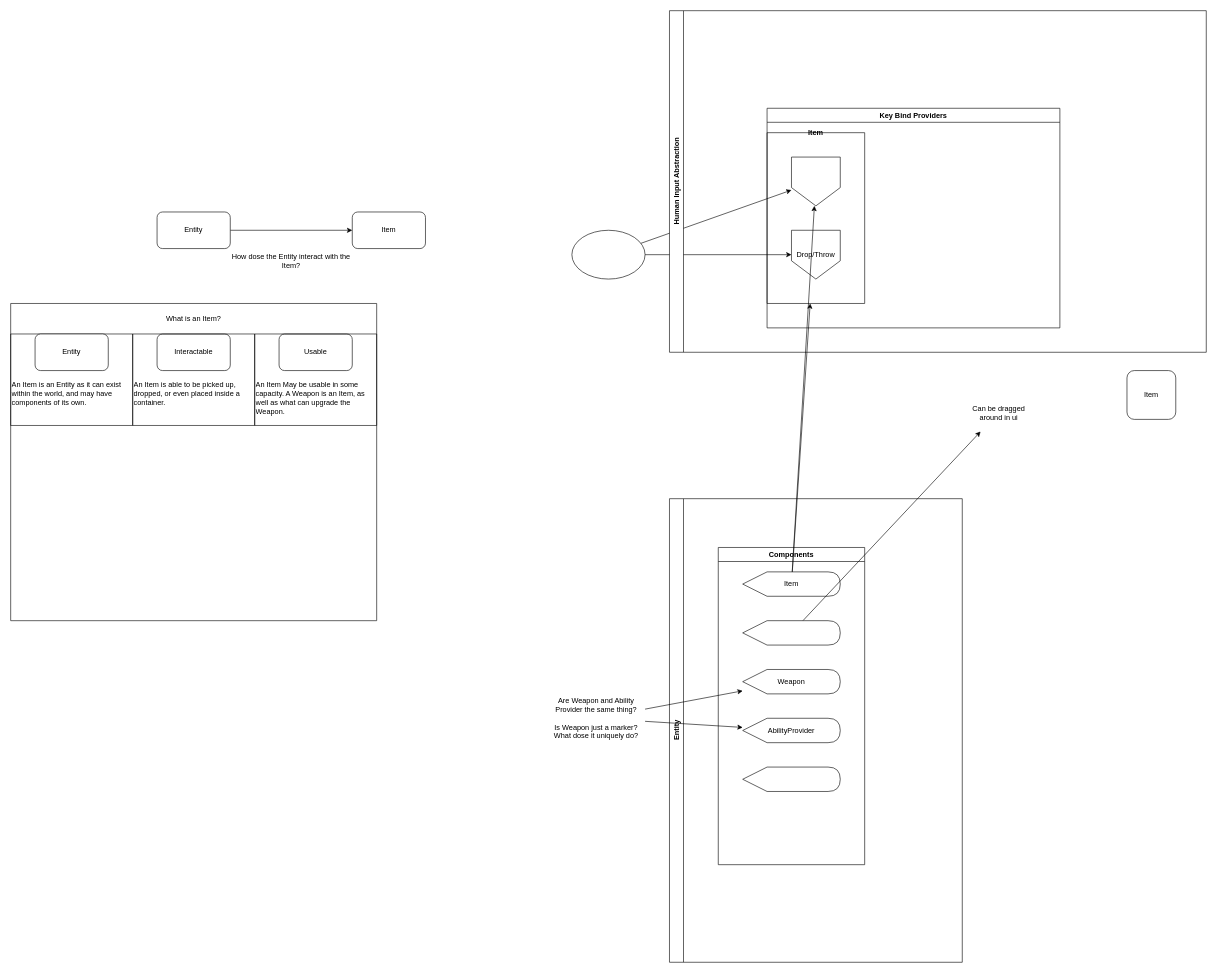
The diagram is 1217 pixels wide and 973 high, and some of its shapes have lost their labels. Here are the shapes that lost their labels. From the top down, the centre of each, then its label:
point (815, 181): Pickup
point (608, 254): Key Board & Mouse
point (791, 632): Equippable
point (791, 778): ModifierProvider
